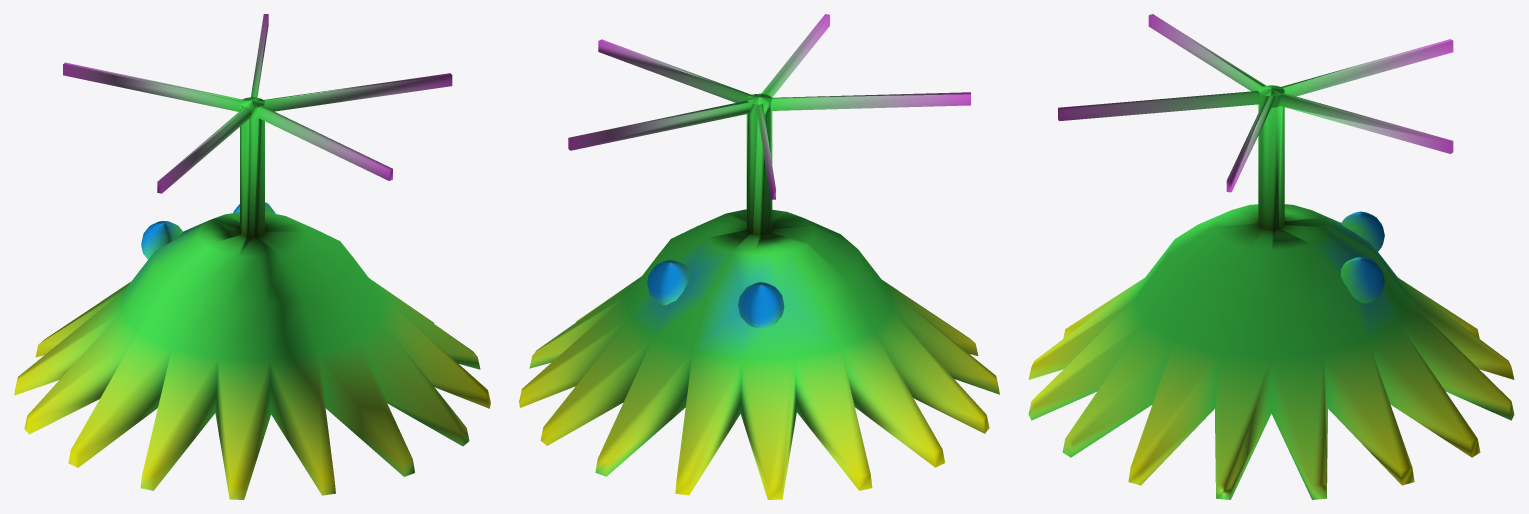
The model's file is heli.glb.
The picture shows the model from 3 angles, left to right: view 1: azimuth 30°, elevation 25°; view 2: azimuth 150°, elevation 25°; view 3: azimuth 270°, elevation 25°; orthographic projection. The views are drawn at different scales.
Visible parts, largest first — view 1: Heli; view 2: Heli; view 3: Heli.
Boxes of the visible parts, bbox=[...] form: Heli: bbox=[14, 14, 490, 499]; Heli: bbox=[519, 14, 999, 499]; Heli: bbox=[1028, 14, 1514, 499].
Size of the model in its own units: 1.25 by 0.8795 by 1.25.
